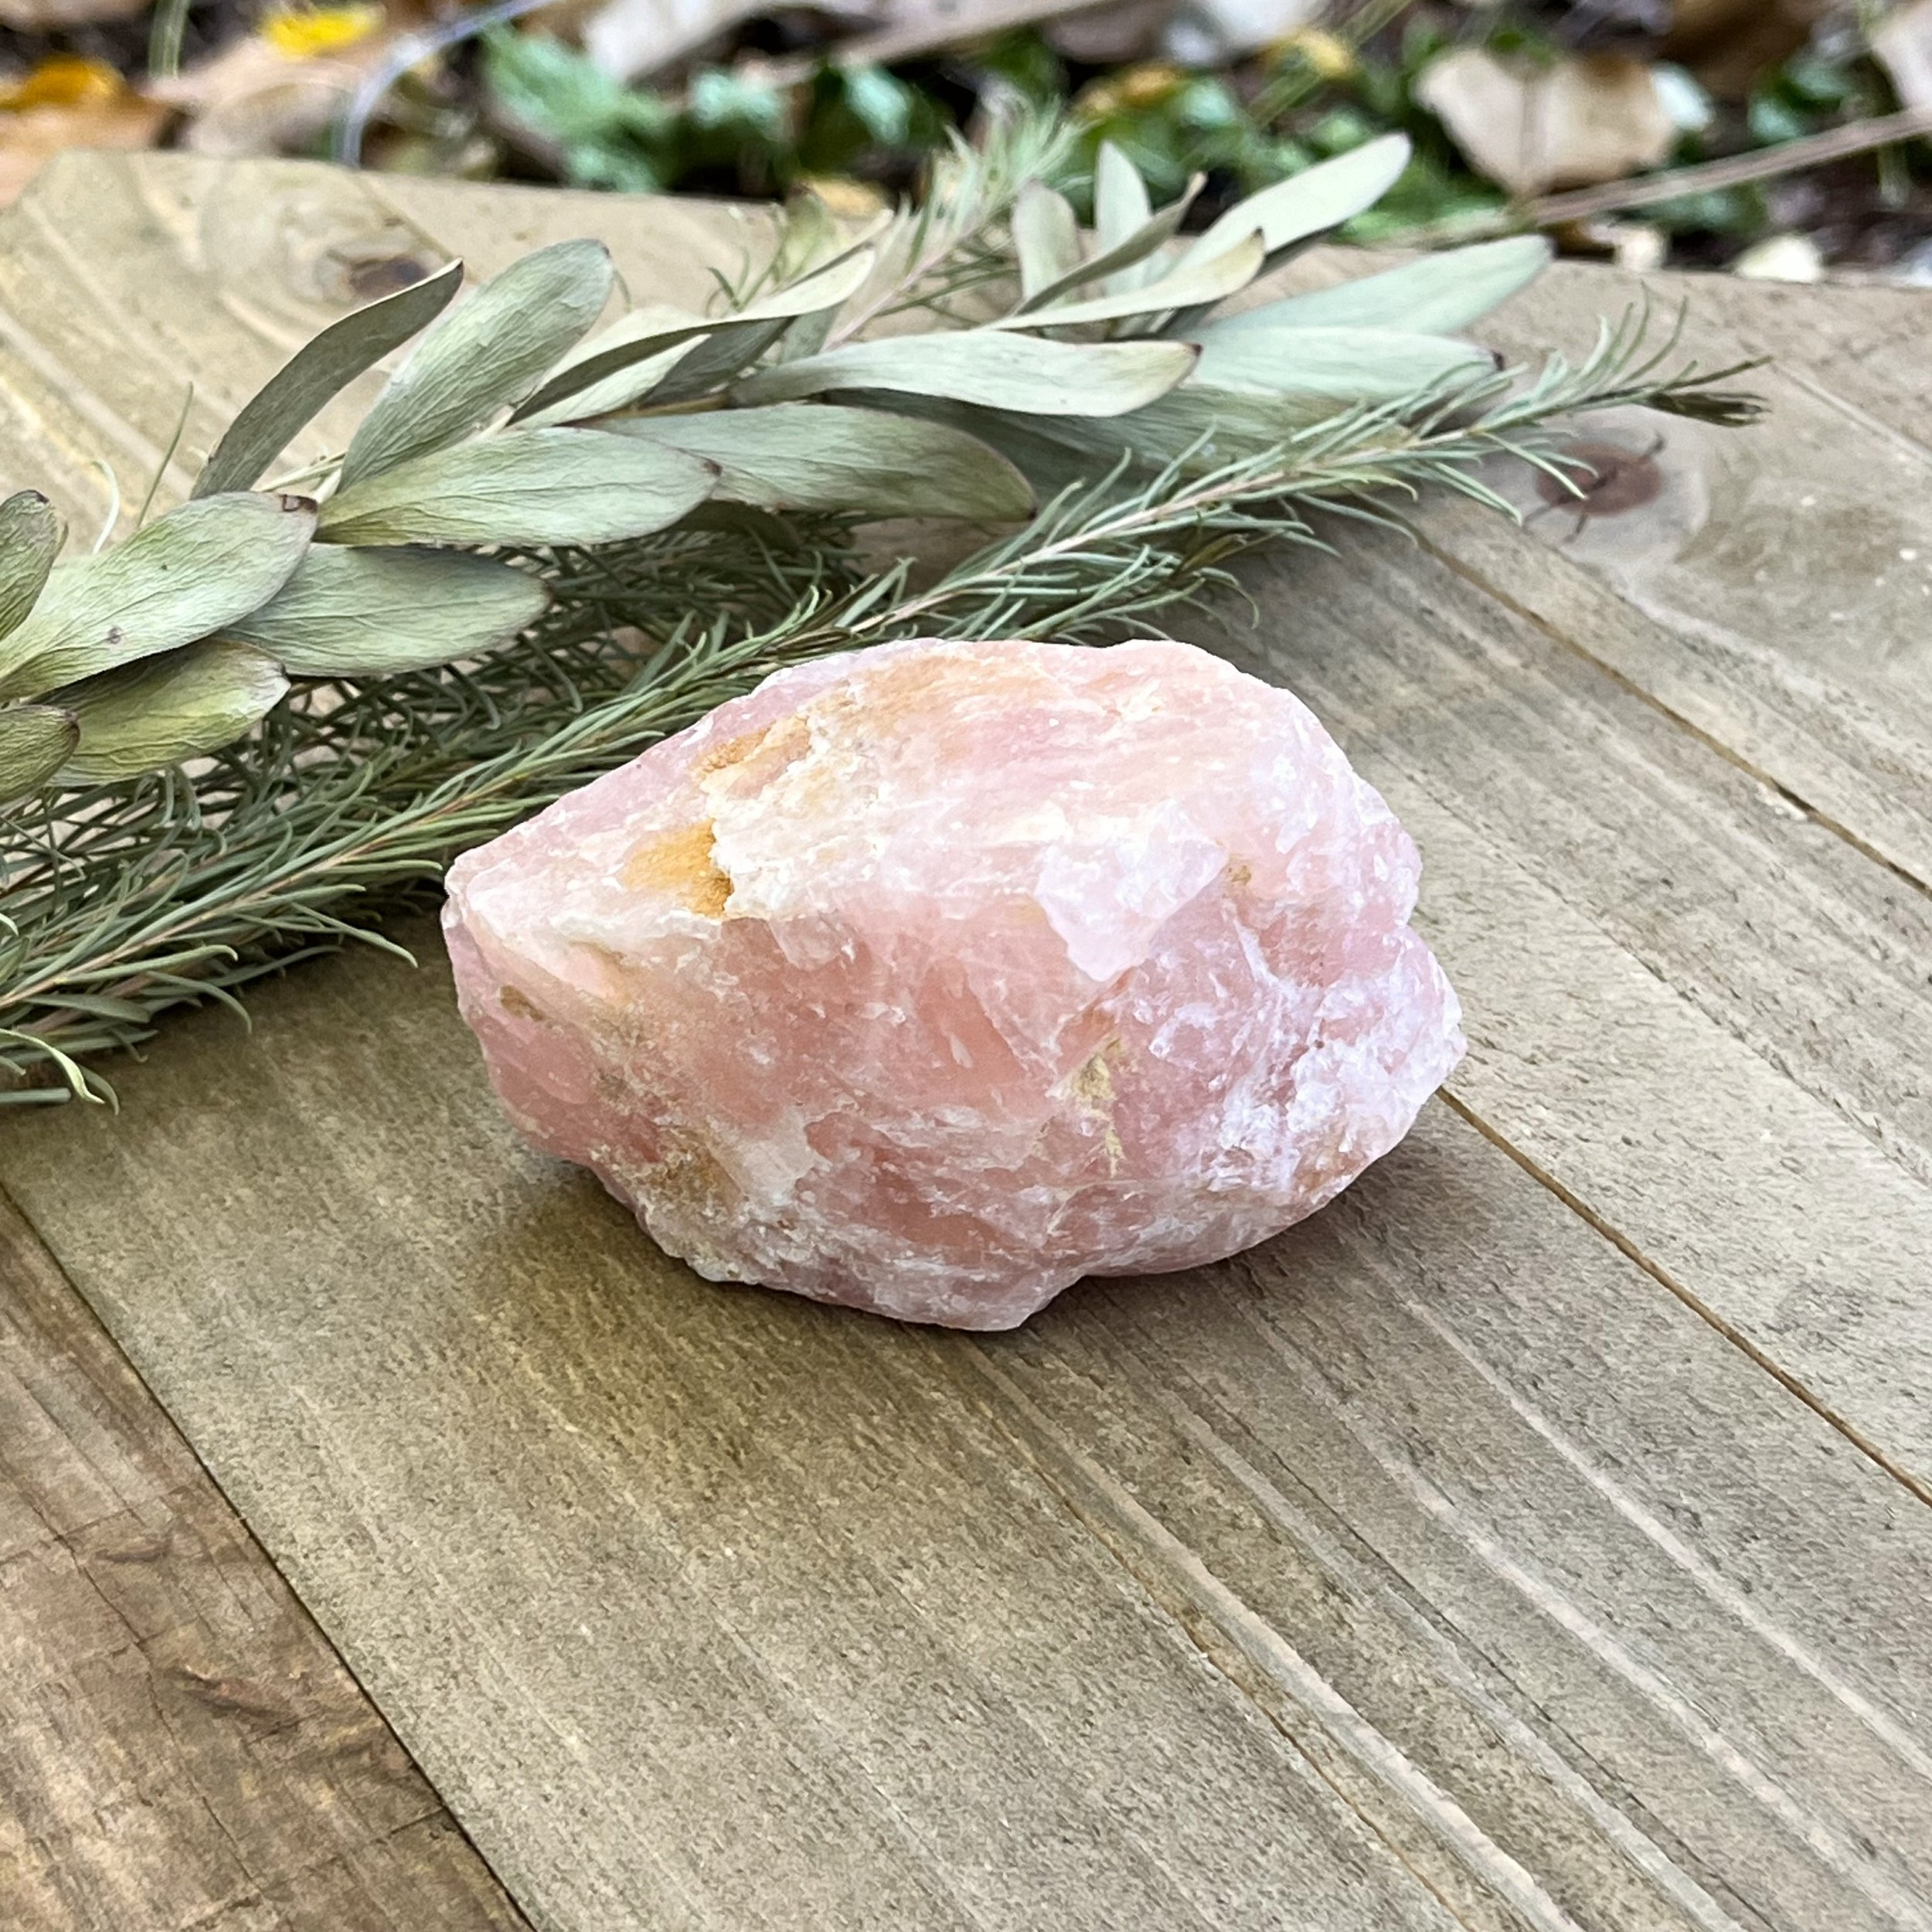Rose_Quartz: (441, 628, 1472, 1327)
